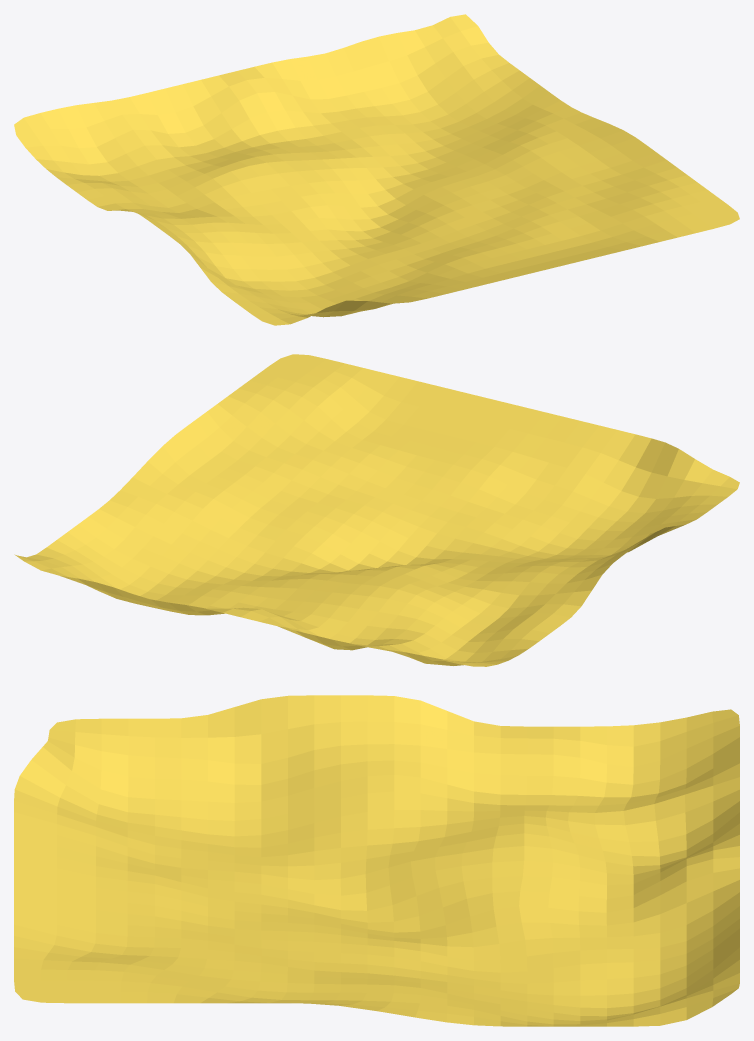
The model's file is Desert.fbx.
3 renders of one model, top to bottom at view 1: azimuth 30°, elevation 25°; view 2: azimuth 150°, elevation 25°; view 3: azimuth 270°, elevation 25°, orthographic. The views are drawn at different scales.
Visible parts, largest first — view 1: Model; view 2: Model; view 3: Model.
Part boxes in pixels (bbox=[...]): Model: bbox=[14, 14, 739, 325]; Model: bbox=[14, 354, 739, 666]; Model: bbox=[14, 695, 739, 1026].
Size of the model in its own units: 80.26 by 10.39 by 84.26.
